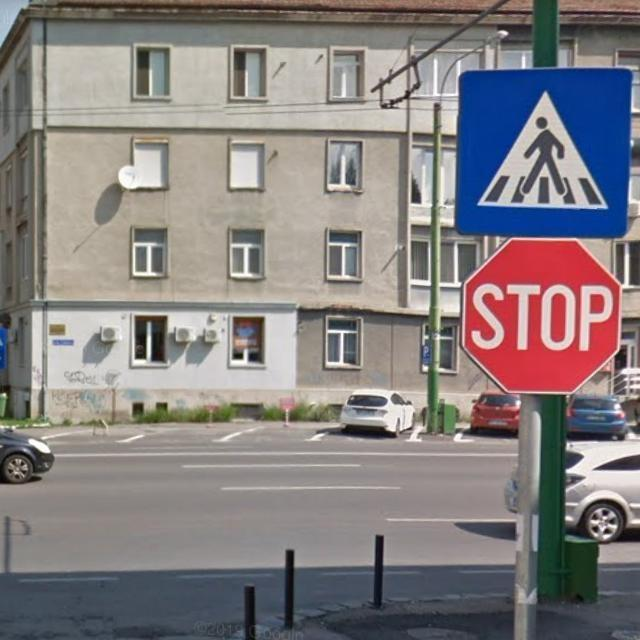info_crosswalk: (455, 65, 632, 240)
prio_stop: (456, 236, 619, 394)
